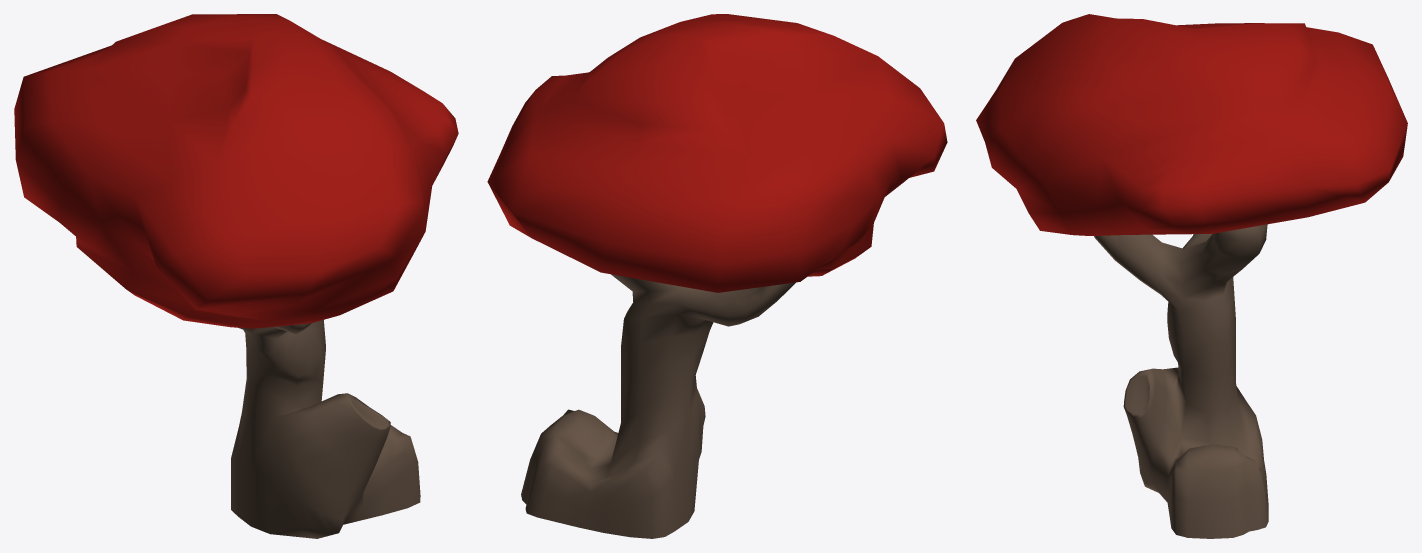
The model's file is SM_city_tree_A.fbx.
3 views of the same model, side by side, from view 1: azimuth 30°, elevation 25°; view 2: azimuth 150°, elevation 25°; view 3: azimuth 270°, elevation 25° (orthographic). The views are drawn at different scales.
Parts seen in each view (by area): view 1: SM_city_tree_A; view 2: SM_city_tree_A; view 3: SM_city_tree_A.
Boxes of the visible parts, bbox=[...] form: SM_city_tree_A: bbox=[14, 14, 458, 538]; SM_city_tree_A: bbox=[487, 14, 947, 538]; SM_city_tree_A: bbox=[976, 14, 1407, 538].
Size of the model in its own units: 377 by 498 by 443.
